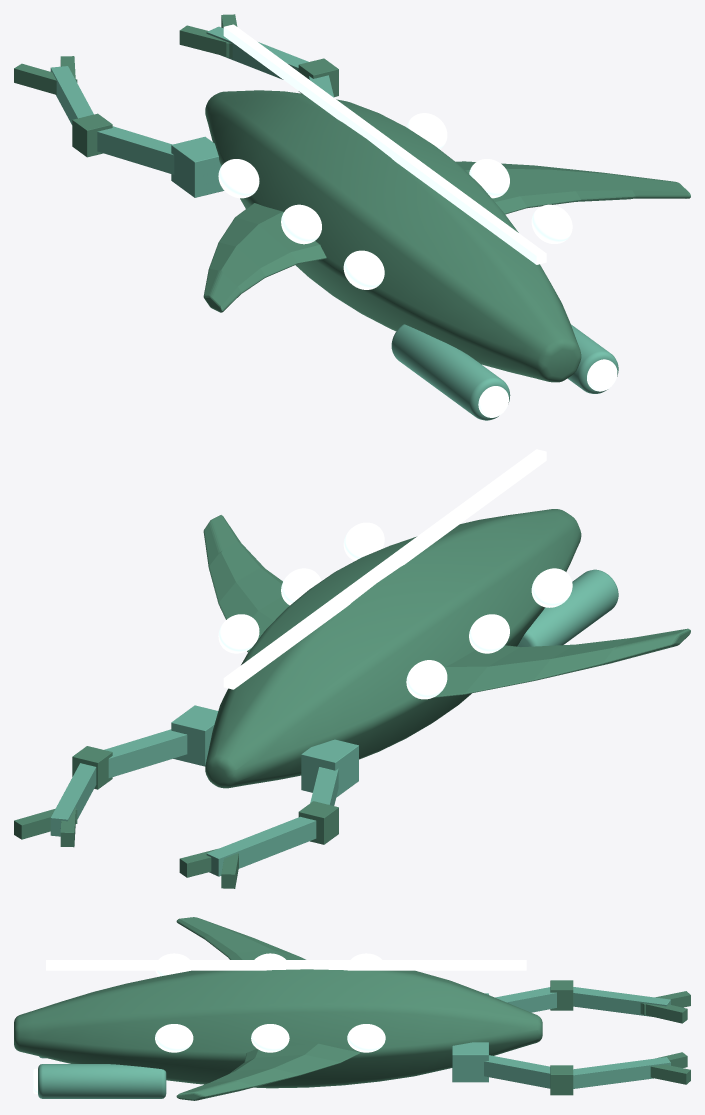
The model's file is kareth-nara-harvester.glb.
The picture shows the model from 3 angles, top to bottom: view 1: azimuth 30°, elevation 25°; view 2: azimuth 150°, elevation 25°; view 3: azimuth 270°, elevation 25°; orthographic projection. The views are drawn at different scales.
Parts seen in each view (by area): view 1: hull, wing, Cube.012, wing.001, Cylinder, Cube, Cube.001, Sphere, Sphere.005, Sphere.002, Sphere.004, Cube.003 (+10 smaller); view 2: hull, wing, Cube.012, wing.001, Cylinder, Cube.003, Cube.007, Cube, Cube.006, Cube.009, Sphere, Sphere.001 (+9 smaller); view 3: hull, Cube.012, Cylinder.002, wing.001, wing, Cube.009, Cube.003, Cube.007, Cube.006, Cube.001, Sphere.001, Sphere.003 (+7 smaller).
Part boxes in pixels (x1,y1,x2,y2): hull: [205, 90, 581, 382]; wing: [203, 203, 326, 312]; Cube.012: [223, 24, 546, 264]; wing.001: [456, 161, 690, 214]; Cylinder: [391, 324, 510, 420]; Cube: [171, 136, 224, 197]; Cube.001: [97, 126, 174, 174]; Sphere: [218, 159, 259, 198]; Sphere.005: [531, 204, 572, 243]; Sphere.002: [281, 204, 321, 244]; Sphere.004: [343, 250, 384, 289]; Cube.003: [50, 66, 93, 124]; hull: [205, 509, 581, 788]; wing: [419, 628, 690, 699]; Cube.012: [223, 449, 546, 689]; wing.001: [203, 515, 289, 652]; Cylinder: [517, 569, 618, 646]; Cube.003: [206, 816, 316, 876]; Cube.007: [104, 729, 187, 777]; Cube: [301, 739, 358, 797]; Cube.006: [171, 705, 218, 766]; Cube.009: [50, 763, 96, 836]; Sphere: [406, 660, 447, 699]; Sphere.001: [218, 614, 259, 653]; hull: [14, 969, 542, 1088]; Cube.012: [46, 960, 526, 970]; Cylinder.002: [38, 1064, 166, 1098]; wing.001: [176, 1043, 360, 1100]; wing: [176, 917, 305, 959]; Cube.009: [573, 1057, 670, 1088]; Cube.003: [573, 987, 670, 1016]; Cube.007: [484, 1055, 550, 1088]; Cube.006: [452, 1042, 488, 1082]; Cube.001: [495, 987, 556, 1012]; Sphere.001: [347, 1024, 385, 1052]; Sphere.003: [251, 1024, 289, 1052].
Bounding box in the file's own units: 2.6 × 0.8267 × 4.23.
